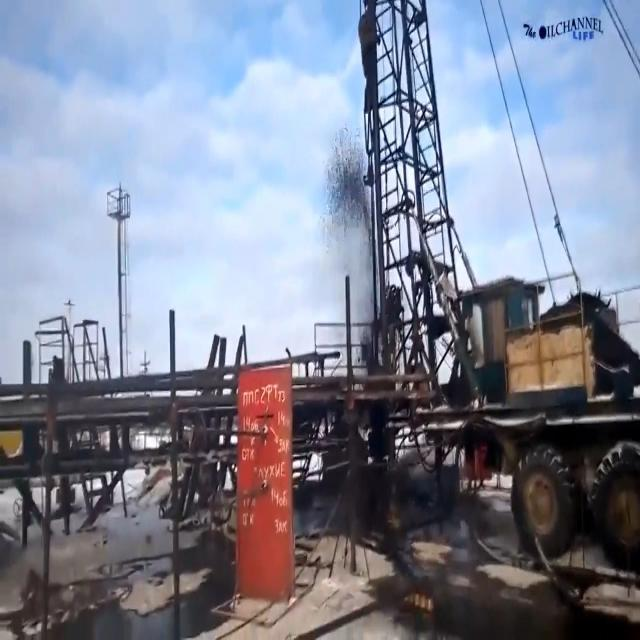spillage: (364, 519, 639, 640), (1, 519, 242, 640)
